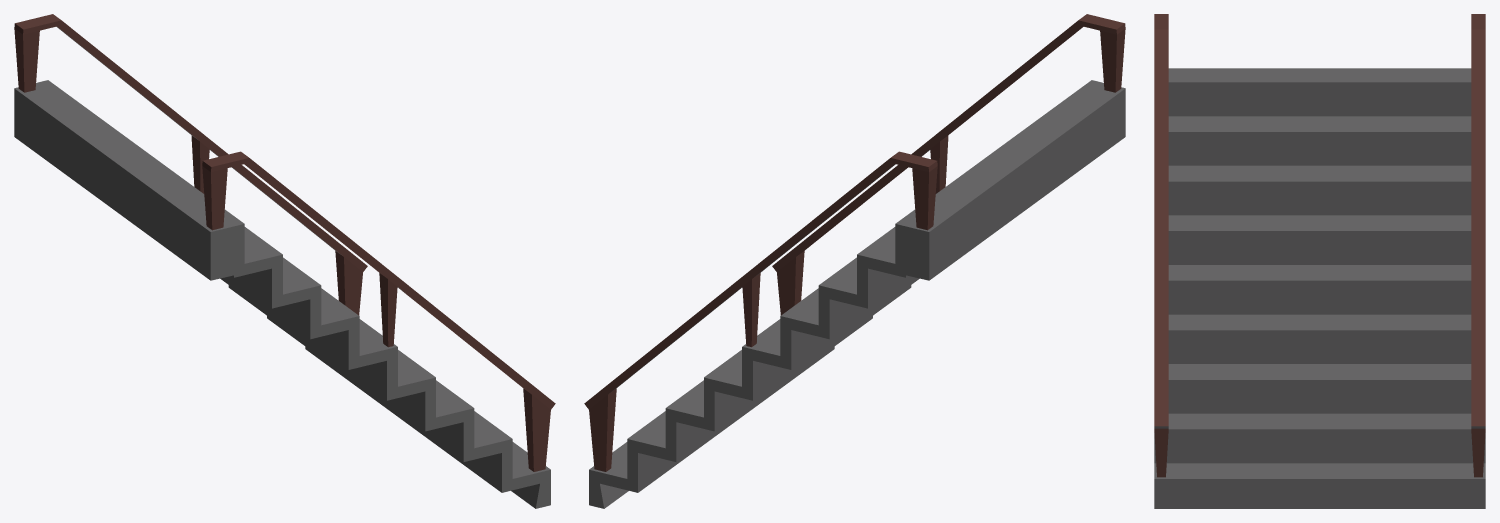
The model's file is broken_FlaskSquare.fbx_floor3.fbx_stari_2.fbx.
3 views of the same model, side by side, from view 1: azimuth 30°, elevation 25°; view 2: azimuth 150°, elevation 25°; view 3: azimuth 270°, elevation 25° (orthographic). The views are drawn at different scales.
Parts seen in each view (by area): view 1: Cube.020; view 2: Cube.020; view 3: Cube.020.
Part boxes in pixels (<box>): Cube.020: <box>14,14,555,508</box>; Cube.020: <box>584,14,1125,508</box>; Cube.020: <box>1154,14,1485,508</box>.
Size of the model in its own units: 150 by 175 by 148.
